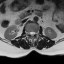CCS_normal: (31, 29, 33, 38)
LFS_normal: (35, 29, 37, 36)
LLS_normal: (33, 29, 35, 36)
RFS_normal: (27, 30, 29, 36)
RLS_normal: (29, 30, 31, 36)
